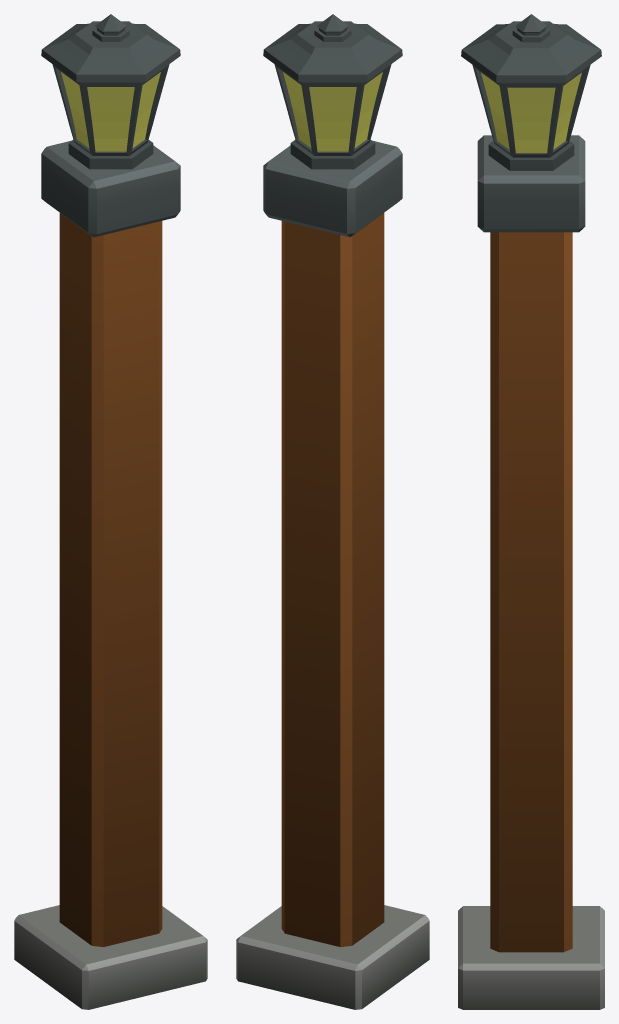
The model's file is Poste-5.fbx.
The picture shows the model from 3 angles, left to right: view 1: azimuth 30°, elevation 25°; view 2: azimuth 150°, elevation 25°; view 3: azimuth 270°, elevation 25°; orthographic projection.
Parts seen in each view (by area): view 1: Poste-5; view 2: Poste-5; view 3: Poste-5.
Part boxes in pixels (<box>): Poste-5: <box>14,14,207,1009</box>; Poste-5: <box>236,14,429,1009</box>; Poste-5: <box>458,14,604,1009</box>.
Size of the model in its own units: 68.69 by 498 by 68.69.
